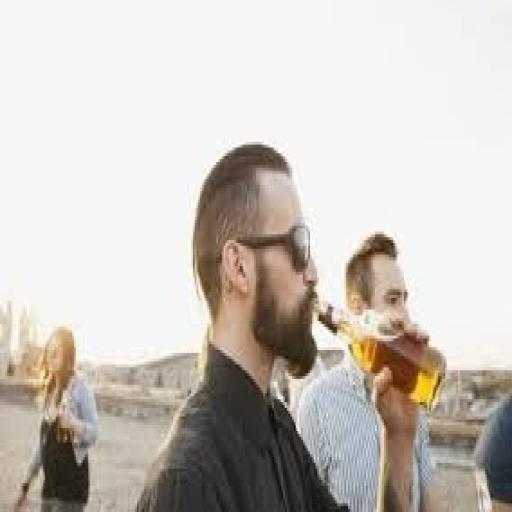drinking: (312, 295, 445, 411)
